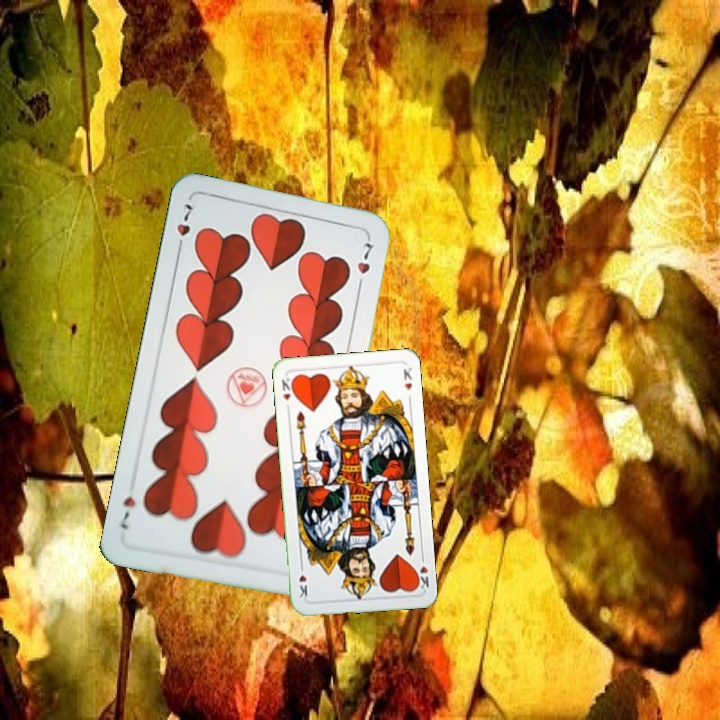H7: (172, 199, 196, 256)
HK: (411, 551, 432, 592), (278, 373, 297, 413)
